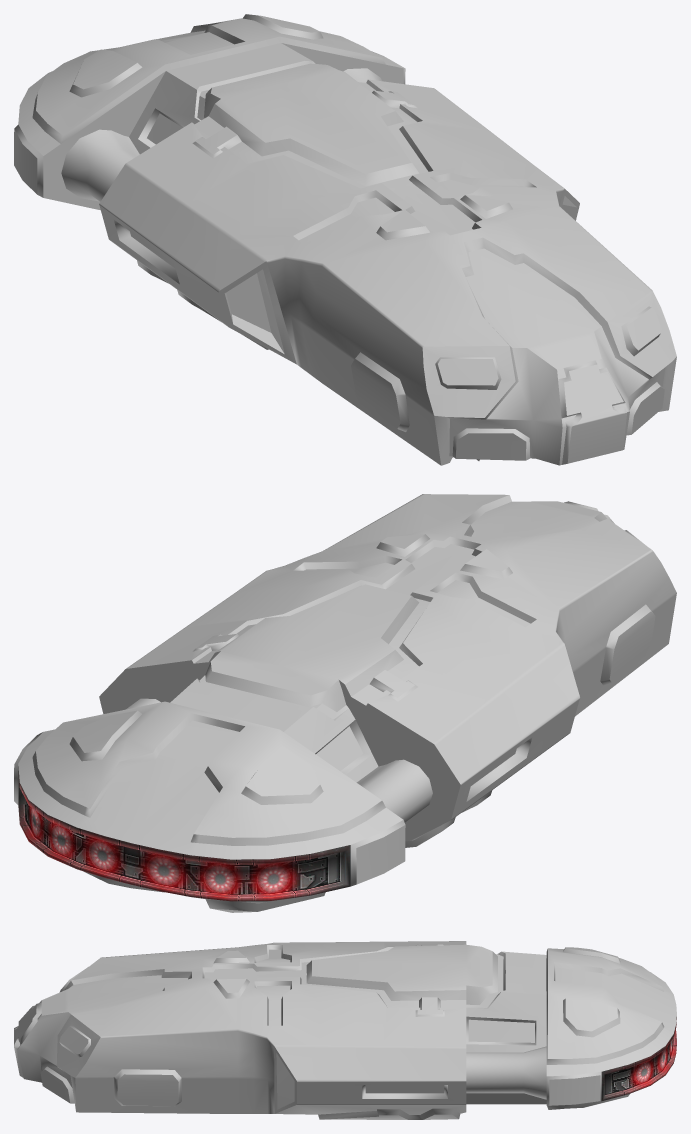
Rendered from bst_heavycorvette.obj.
3 renders of one model, top to bottom at view 1: azimuth 30°, elevation 25°; view 2: azimuth 150°, elevation 25°; view 3: azimuth 270°, elevation 25°, orthographic. The views are drawn at different scales.
Parts seen in each view (by area): view 1: Kus_HeavyCorvette, Kus_HeavyCorvette_badge; view 2: Kus_HeavyCorvette, HeavyCorvette_Engine, Kus_HeavyCorvette_badge; view 3: Kus_HeavyCorvette, Kus_HeavyCorvette_badge, HeavyCorvette_Engine.
Boxes of the visible parts, bbox=[...] form: Kus_HeavyCorvette: bbox=[14, 14, 676, 465]; Kus_HeavyCorvette_badge: bbox=[186, 123, 532, 237]; Kus_HeavyCorvette: bbox=[14, 494, 676, 912]; HeavyCorvette_Engine: bbox=[18, 766, 350, 901]; Kus_HeavyCorvette_badge: bbox=[187, 586, 532, 700]; Kus_HeavyCorvette: bbox=[14, 941, 676, 1119]; Kus_HeavyCorvette_badge: bbox=[319, 941, 383, 1046]; HeavyCorvette_Engine: bbox=[601, 1017, 676, 1100].
Size of the model in its own units: 16.42 by 7.52 by 36.1.
